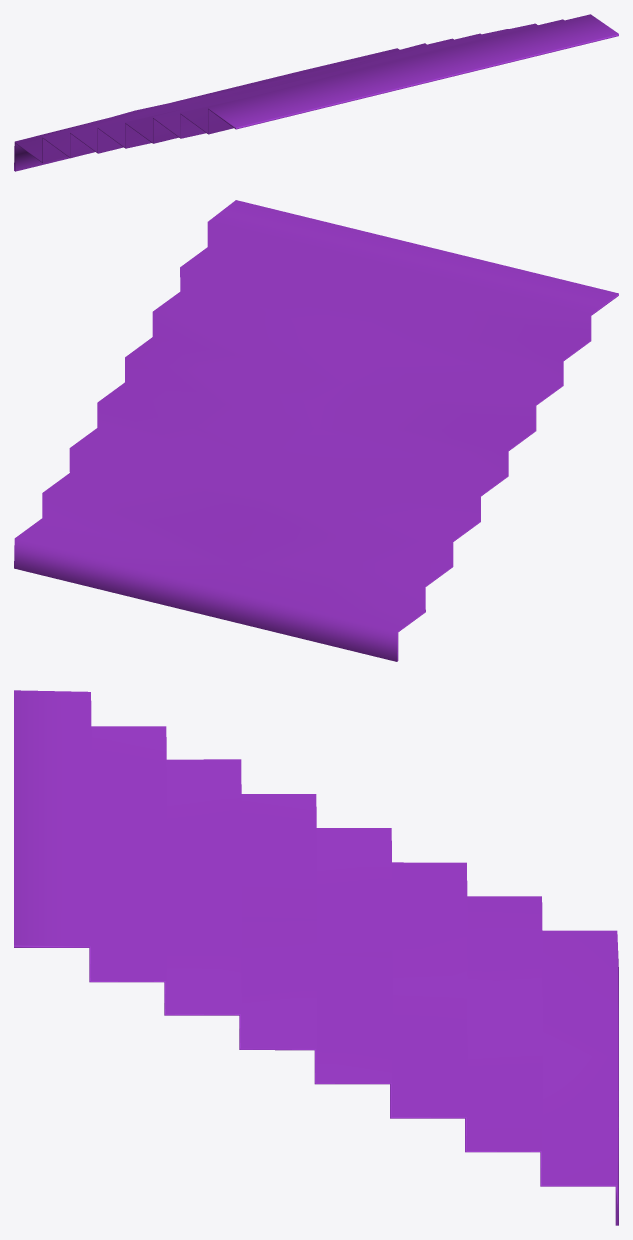
File: Stairs_01_Lod0.fbx
3 views of the same model, one above another, from view 1: azimuth 30°, elevation 25°; view 2: azimuth 150°, elevation 25°; view 3: azimuth 270°, elevation 25° (orthographic). The views are drawn at different scales.
Parts seen in each view (by area): view 1: Stairs_01_Lod0; view 2: Stairs_01_Lod0; view 3: Stairs_01_Lod0.
Part boxes in pixels (x1,y1,x2,y2): Stairs_01_Lod0: (14,14,618,171); Stairs_01_Lod0: (14,200,618,661); Stairs_01_Lod0: (14,690,618,1225).
Bounding box in the file's own units: 300 × 154 × 301.
